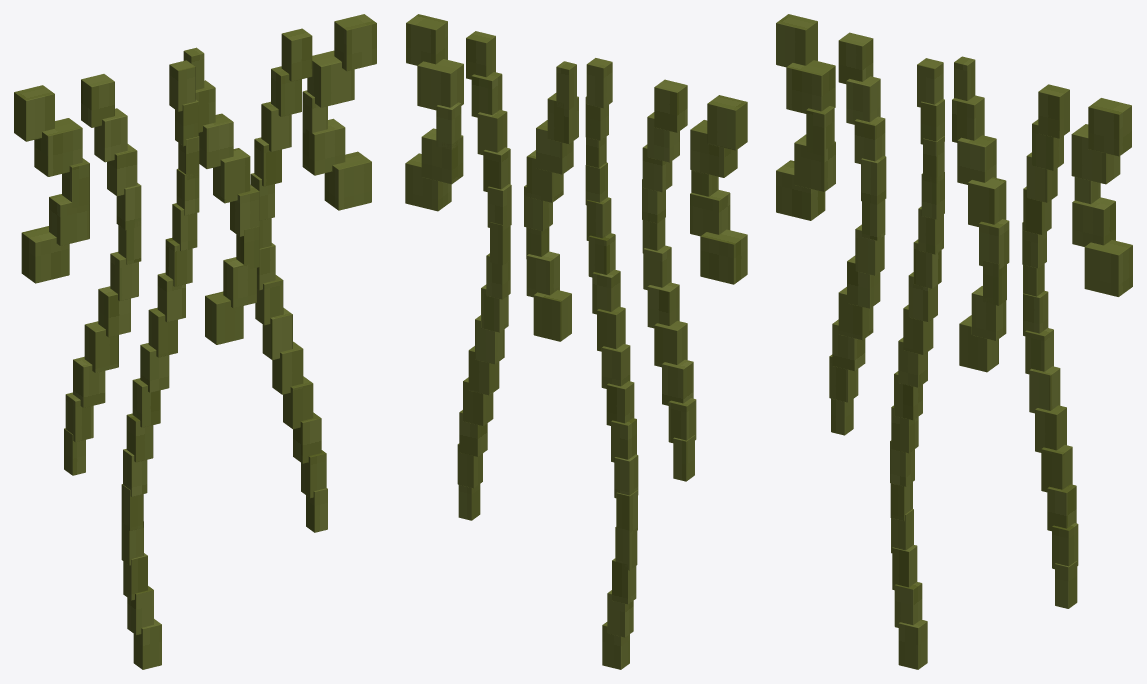
Rendered from Trailing-stems.glb.
3 views of the same model, side by side, from view 1: azimuth 30°, elevation 25°; view 2: azimuth 150°, elevation 25°; view 3: azimuth 330°, elevation 25° (orthographic). The views are drawn at different scales.
Parts seen in each view (by area): view 1: Trailing-stems; view 2: Trailing-stems; view 3: Trailing-stems.
Part boxes in pixels (x1=…): Trailing-stems: x1=14, y1=14, x2=376, y2=669; Trailing-stems: x1=405, y1=14, x2=747, y2=669; Trailing-stems: x1=776, y1=14, x2=1132, y2=669.
Bounding box in the file's own units: 0.6796 × 1.13 × 0.0708.
1 material, 1 textured.
